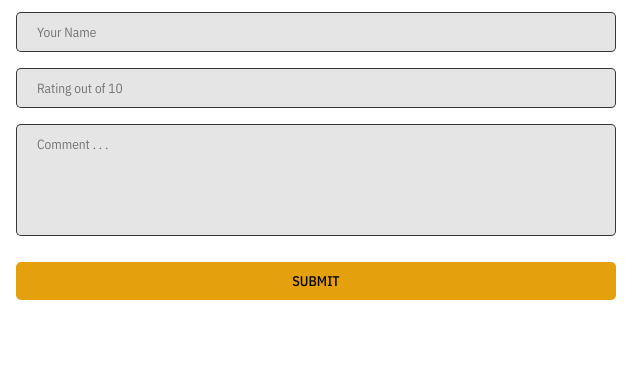
ReviewForm › validates name with more than 50 characters, rating greater than 10, comment greater than 350 characters, and shows errors
Type "Deserunt exercitation consequat veniam est sit Lorem cupidatat ut. Lorem sint qui magna exercitation ipsum fugiat excepteur duis deserunt cupidatat fugiat cillum. Sunt cupidatat culpa sint exercitatio" into the field with placeholder "Your Name" at [316, 32], box [16,12,616,52]
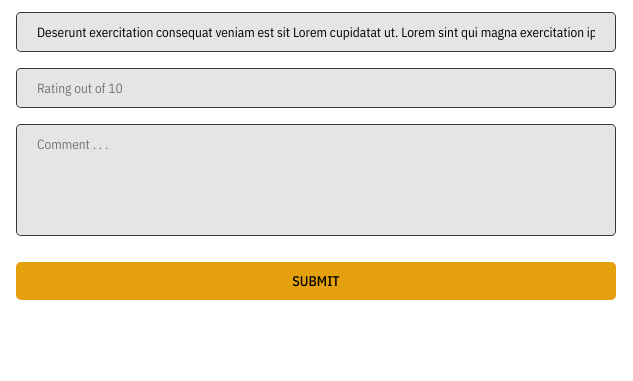
Type "20" into the number field with placeholder "Rating out of 10" at [316, 88], box [16,68,616,108]
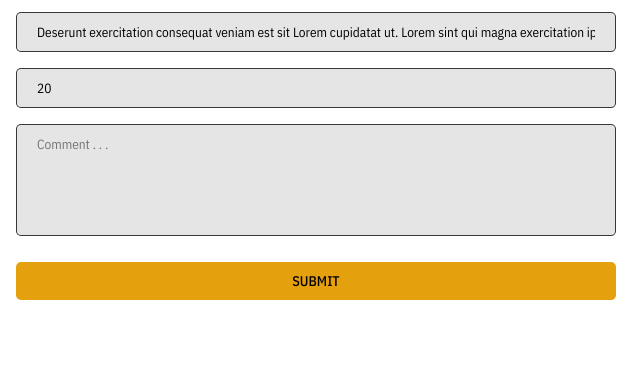
Type "Ea non enim elit excepteur amet ea nisi ullamco sit. Eiusmod ipsum commodo elit nostrud esse adipisicing culpa sunt ipsum consectetur cillum. Nulla ex non excepteur qui proident magna ullamco exercita" into the text box with placeholder "Comment . . ." at [316, 180], box [16,124,616,236]
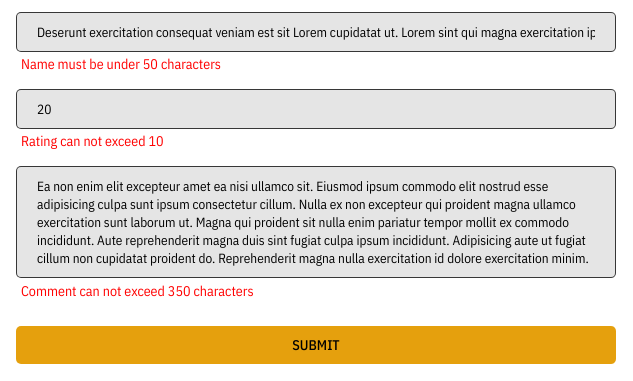
expect the text "Name must be under 50 characters" is shown: met, box [21,55,221,73]
expect the text "Rating can not exceed 10" is shown: met, box [21,132,164,150]
expect the text "Comment can not exceed 350 characters" is shown: met, box [21,282,254,300]
